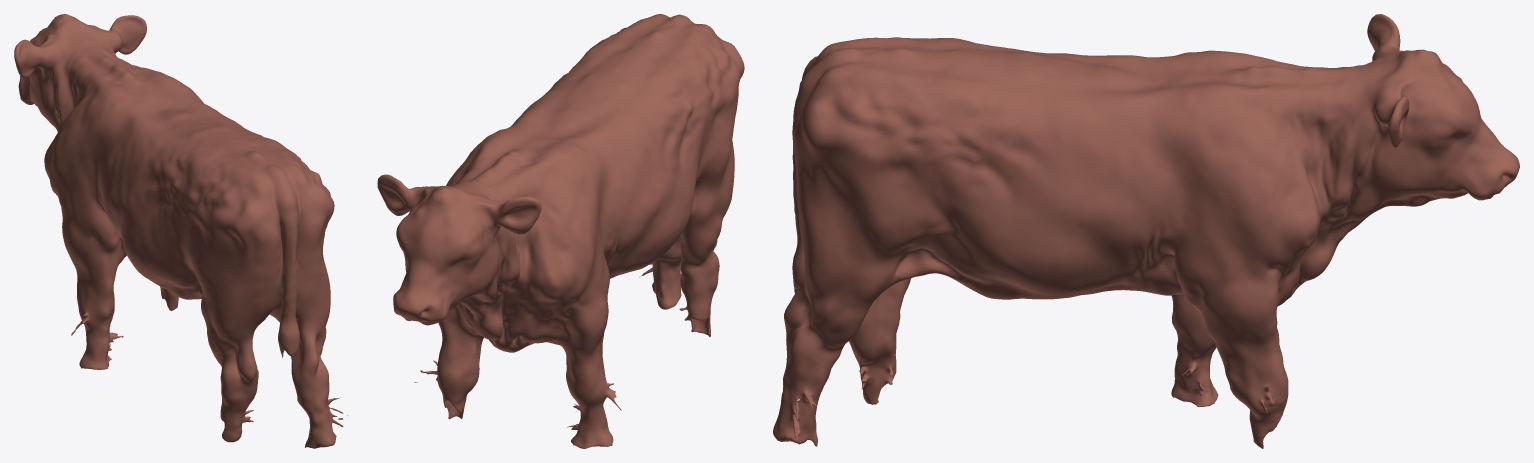
The model's file is cow.glb.
3 views of the same model, side by side, from view 1: azimuth 30°, elevation 25°; view 2: azimuth 150°, elevation 25°; view 3: azimuth 270°, elevation 25° (orthographic). The views are drawn at different scales.
Parts seen in each view (by area): view 1: world; view 2: world; view 3: world.
Part boxes in pixels (x1=…): world: x1=14, y1=14, x2=347, y2=448; world: x1=377, y1=14, x2=744, y2=448; world: x1=773, y1=14, x2=1519, y2=448.
Size of the model in its own units: 0.3272 by 0.5627 by 0.9963.
